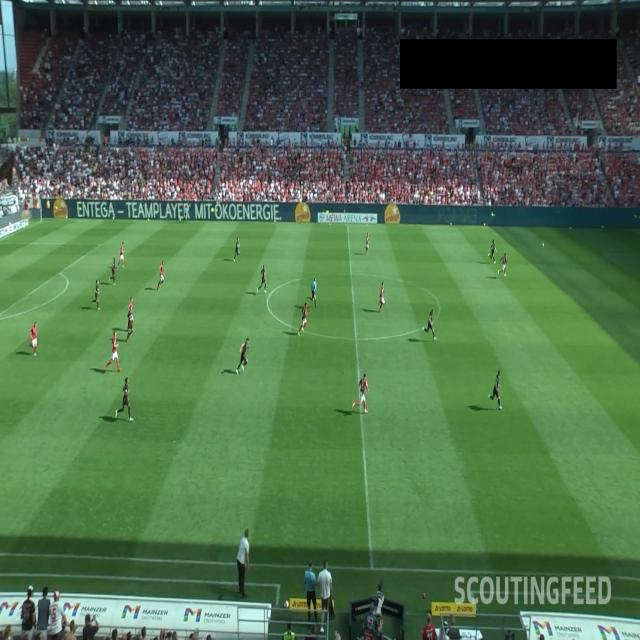ball: (541, 242, 545, 247)
